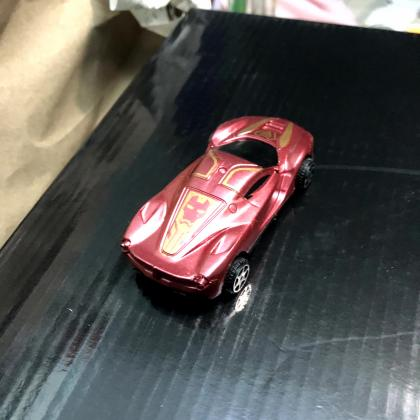Car: (121, 116, 314, 304)
